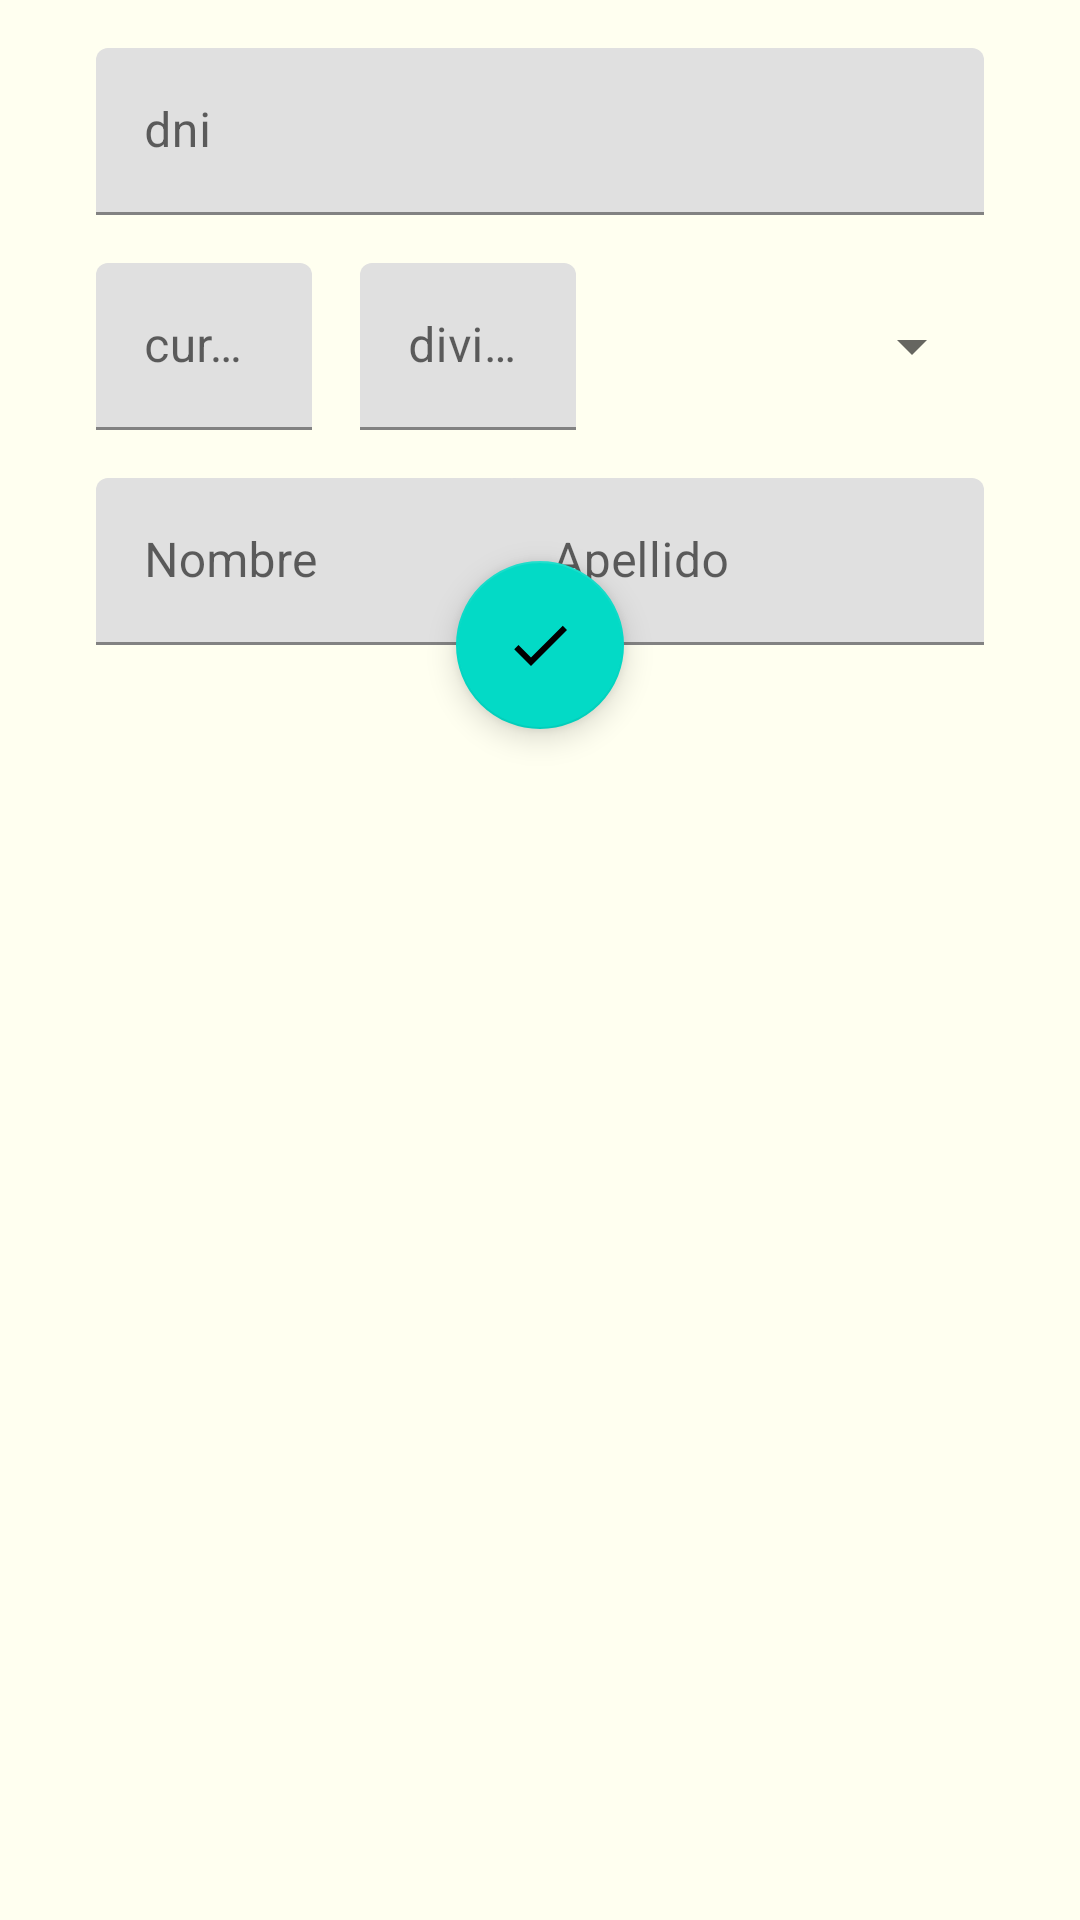

Icons on this 1080 × 1920 Android screen, each with its box as detection(x1, y1, x2, y2):
check: detection(456, 561, 624, 729)
